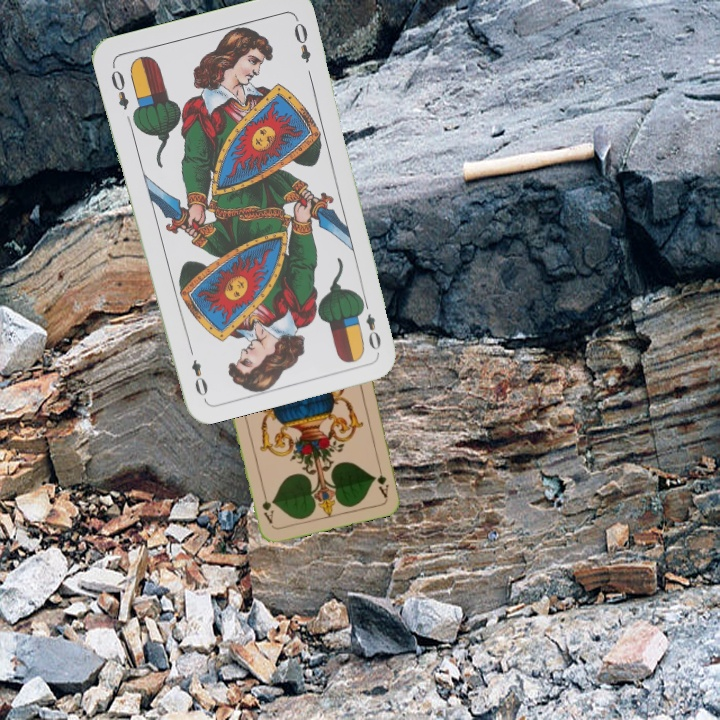EO: (356, 295, 384, 353), (107, 66, 132, 113)
GA: (373, 460, 391, 500)
